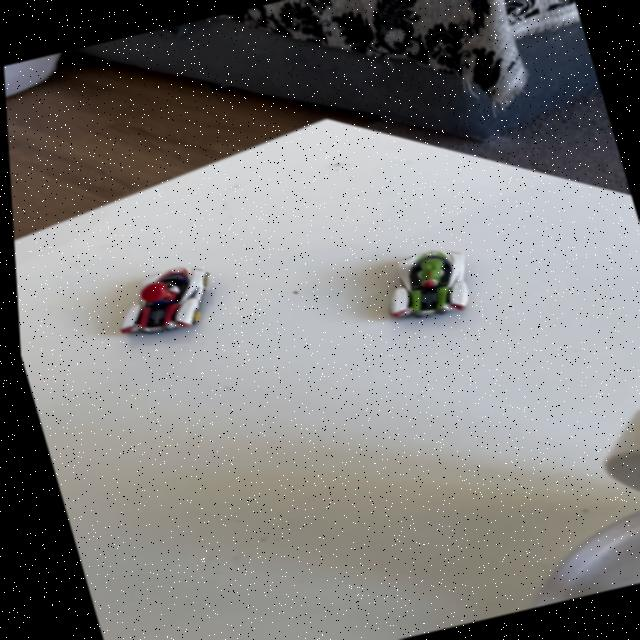mario: (85, 256, 234, 357)
yoshi: (357, 237, 489, 337)
